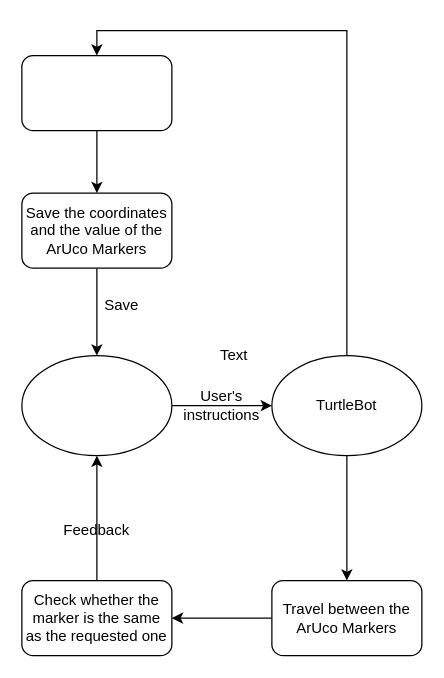
Image size: 444x678. Some labels were removed from this diagram. The box of each missing label's shape, as (x1, y1, x2, y2) in pixels:
Construct the map: (21, 54, 172, 131)
Workstation: (21, 354, 172, 456)
